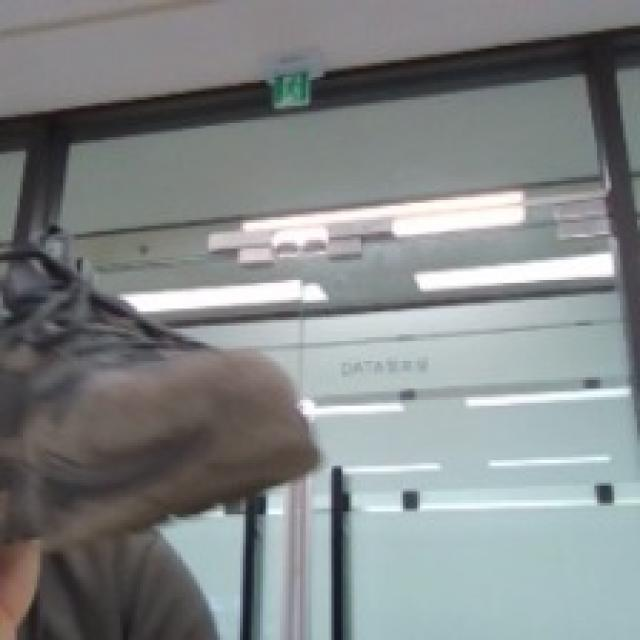shoes: (0, 211, 323, 543)
